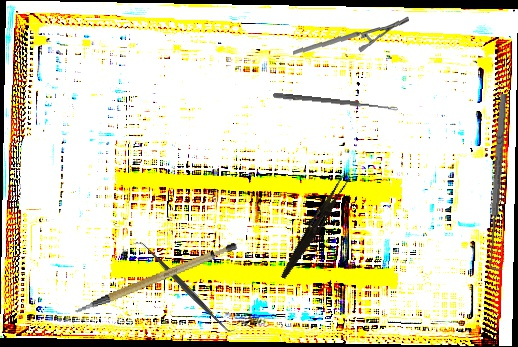Dressing Forceps: (279, 172, 350, 283)
Hook Surgical: (484, 93, 516, 271)
Needle Holder: (292, 10, 410, 61)
Scalpel Handle: (65, 239, 244, 315)
Spatula Surgical: (132, 233, 236, 340)
Surgical Spoon: (273, 92, 398, 112)
